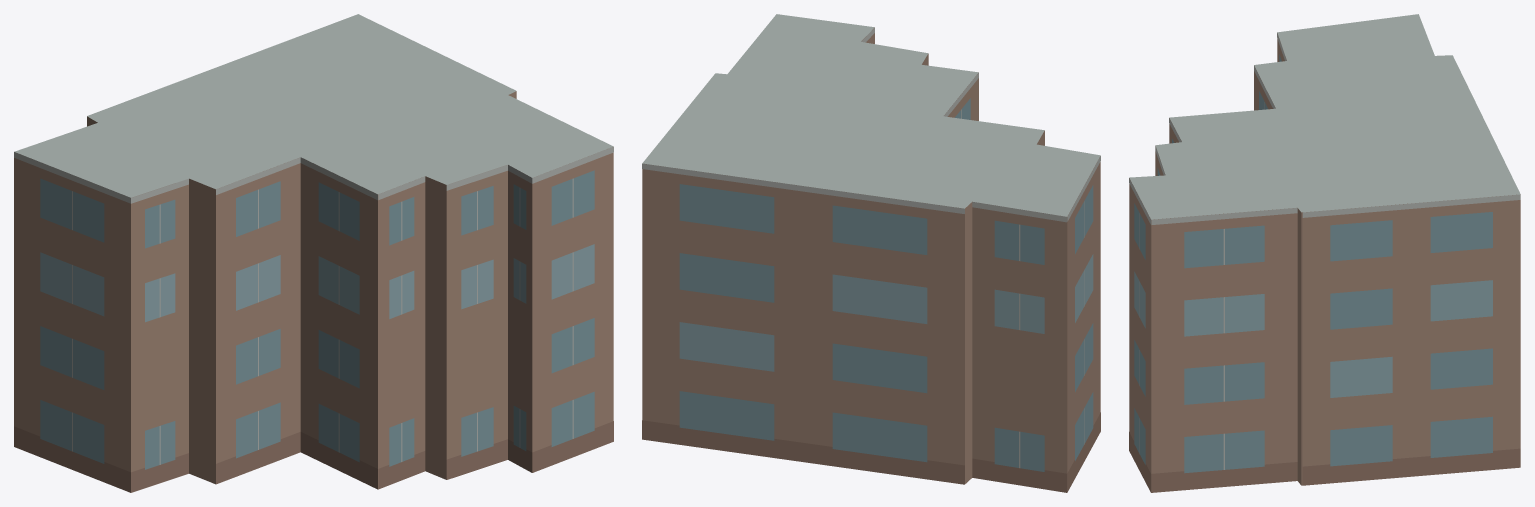
File: survey-upis-32640825.glb
3 renders of one model, left to right at view 1: azimuth 30°, elevation 25°; view 2: azimuth 150°, elevation 25°; view 3: azimuth 270°, elevation 25°, orthographic. The views are drawn at different scales.
Visible parts, largest first — view 1: survey-upis-32640825.tmp; view 2: survey-upis-32640825.tmp; view 3: survey-upis-32640825.tmp.
Boxes of the visible parts, box(x1,y1,x2,y2) form: survey-upis-32640825.tmp: box(14, 14, 613, 492); survey-upis-32640825.tmp: box(642, 14, 1100, 492); survey-upis-32640825.tmp: box(1129, 14, 1520, 492).
Size of the model in its own units: 19.54 by 12.1 by 15.73.
